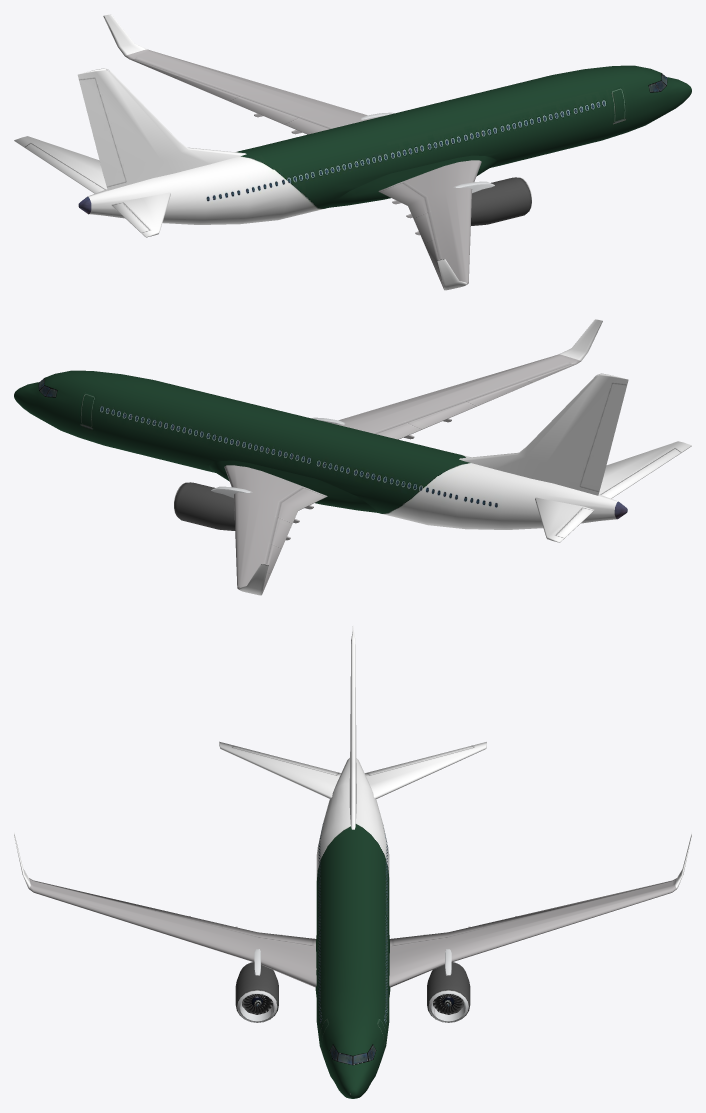
Rendered from amvlab-b737.glb.
3 views of the same model, one above another, from view 1: azimuth 30°, elevation 25°; view 2: azimuth 150°, elevation 25°; view 3: azimuth 270°, elevation 25° (orthographic).
Parts seen in each view (by area): view 1: B737; view 2: B737; view 3: B737.
Boxes of the visible parts, bbox=[...] form: B737: bbox=[14, 14, 691, 290]; B737: bbox=[14, 319, 691, 595]; B737: bbox=[14, 625, 691, 1098].
Bounding box in the file's own units: 37.87 × 11.88 × 35.74.
1 material, 1 textured.
